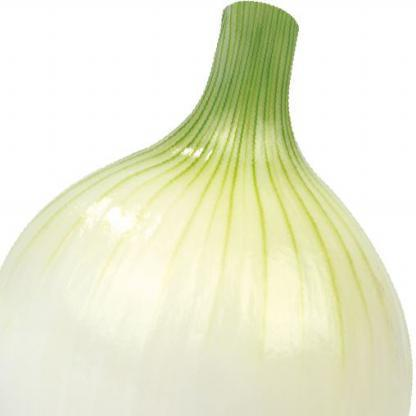onion: (0, 57, 415, 415)
